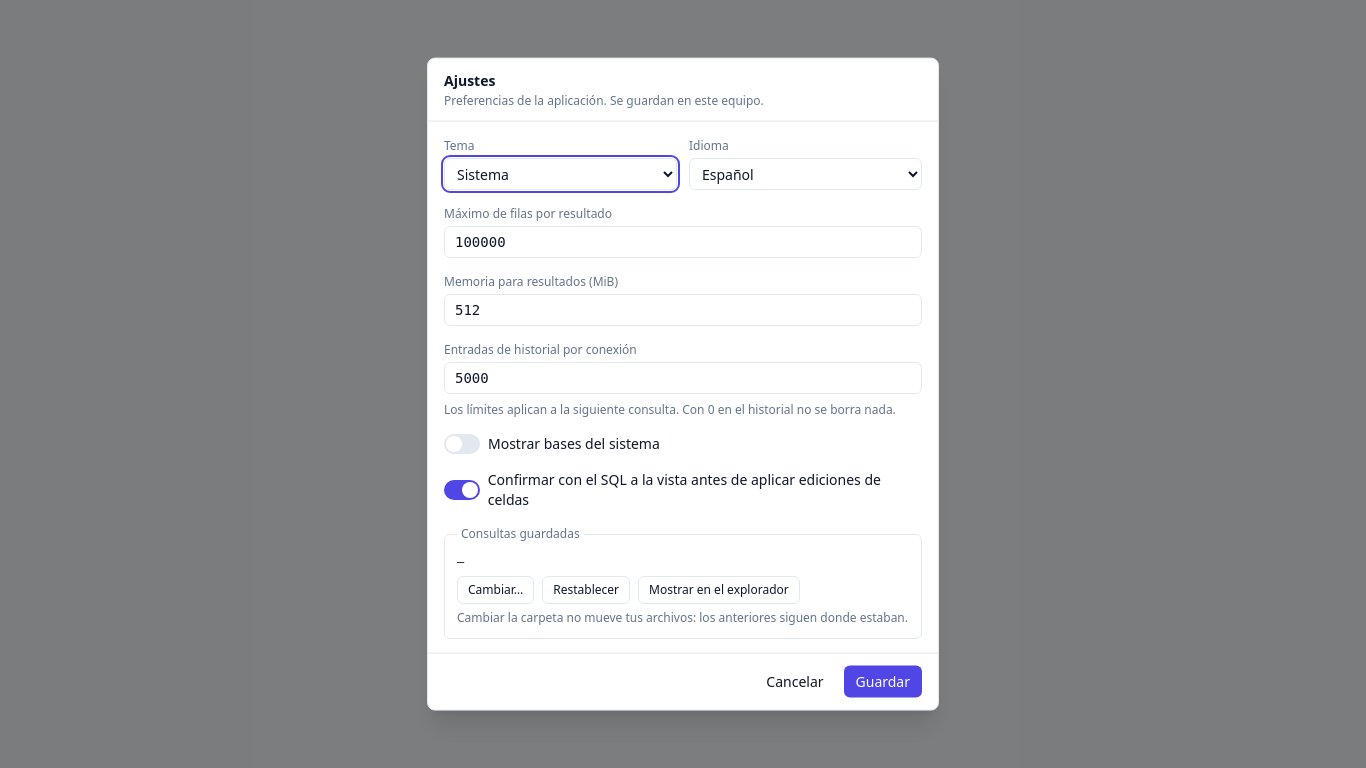
Test: SettingsDialog › muestra el error de validación de Go en el campo y deja el diálogo abierto
Step 1. Replace the text in the number field labelled "Máximo de filas por resultado" with "5" → [683, 242], box [444,226,922,258]
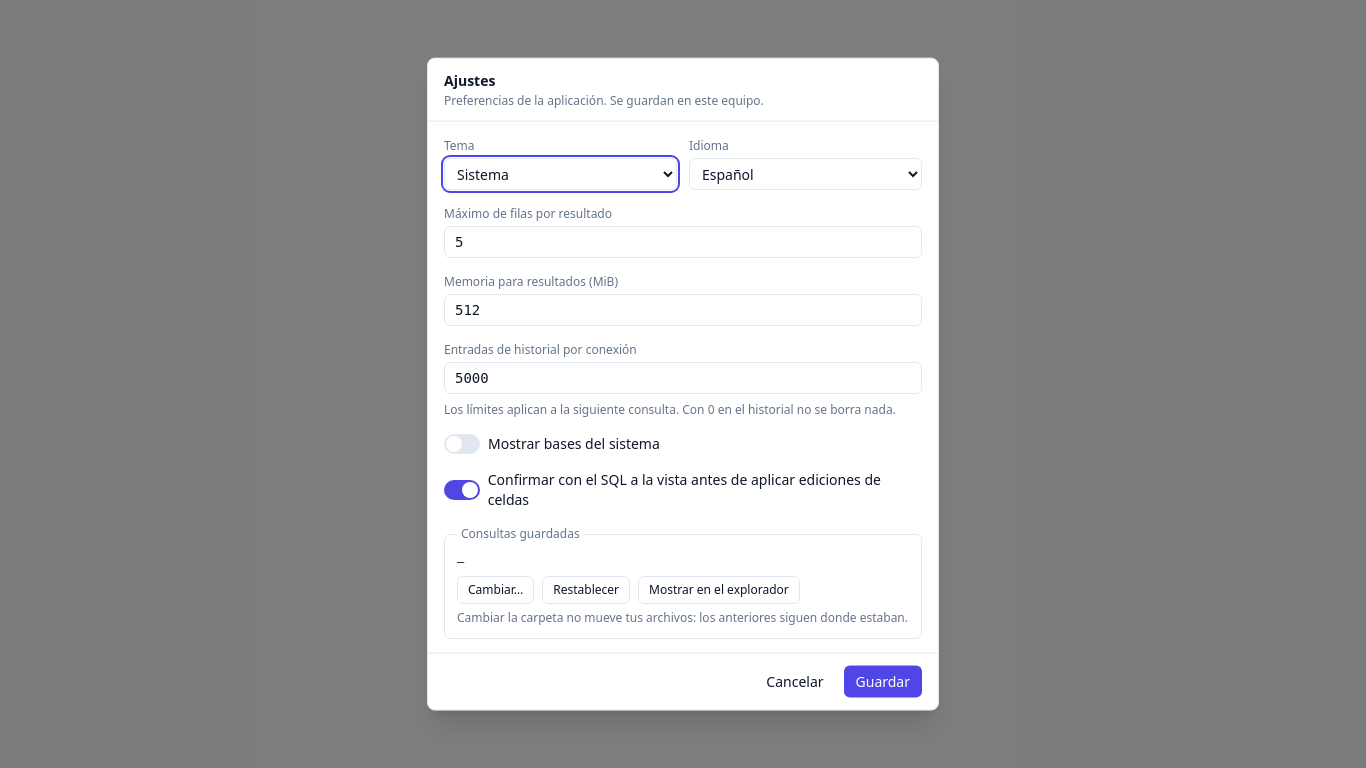
Step 2. Click the button with test id "settings-save" → [883, 681], box [844,665,922,697]
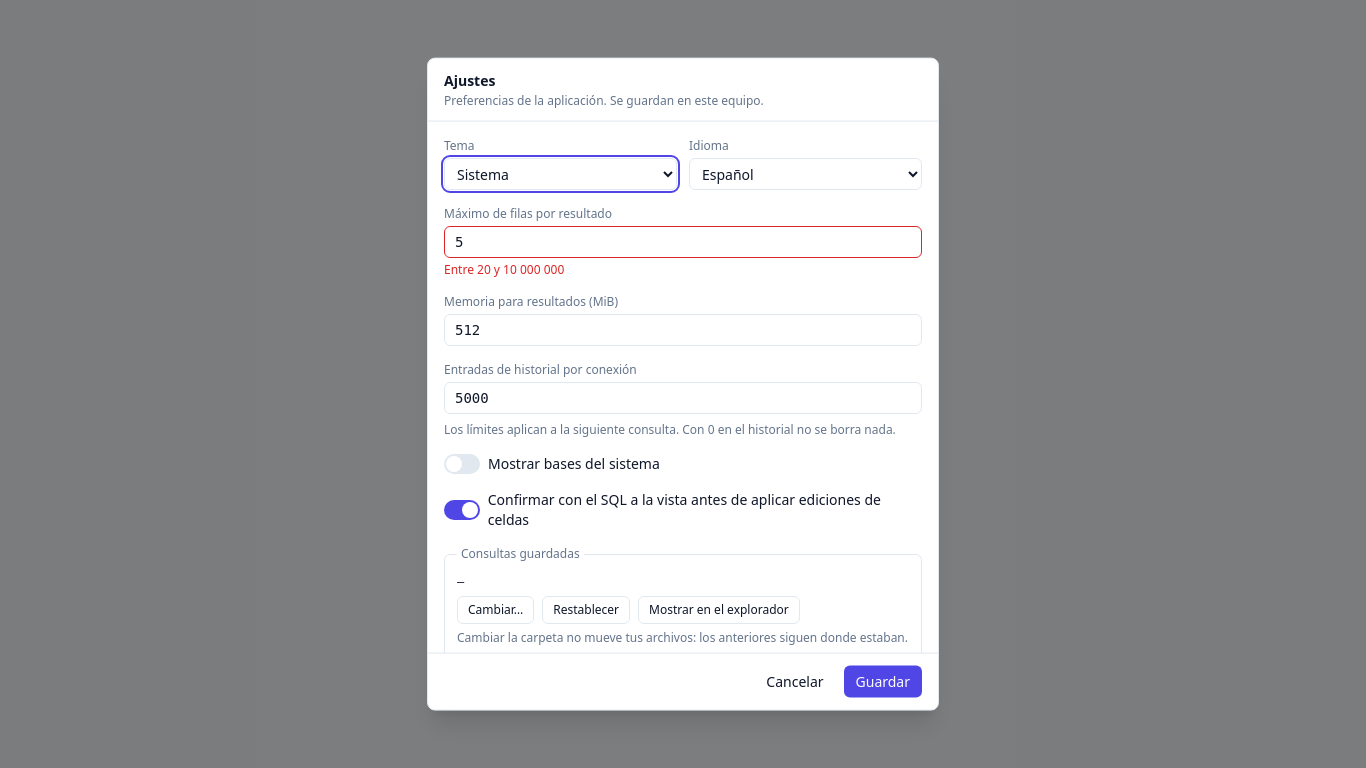
Check: the text "Entre 20 y 10 000 000" is shown, box [444,261,564,278]
